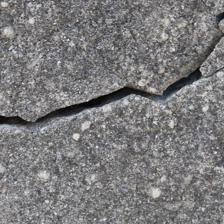Crack: (2, 31, 209, 106)
